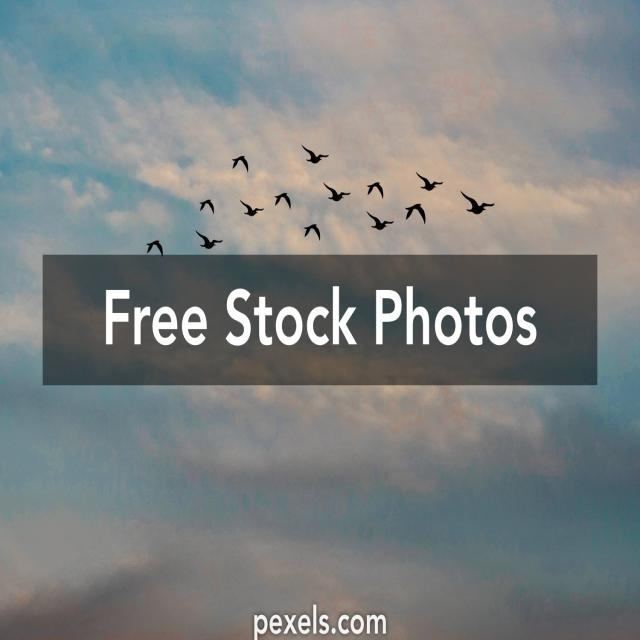bird: (460, 191, 494, 217), (365, 212, 393, 234), (416, 173, 444, 195), (196, 229, 224, 251), (324, 182, 351, 204), (302, 146, 328, 168), (239, 199, 264, 219), (405, 204, 428, 225), (302, 221, 322, 241), (366, 182, 386, 201), (274, 192, 292, 209), (147, 237, 164, 255), (232, 156, 250, 172), (199, 199, 215, 214)
